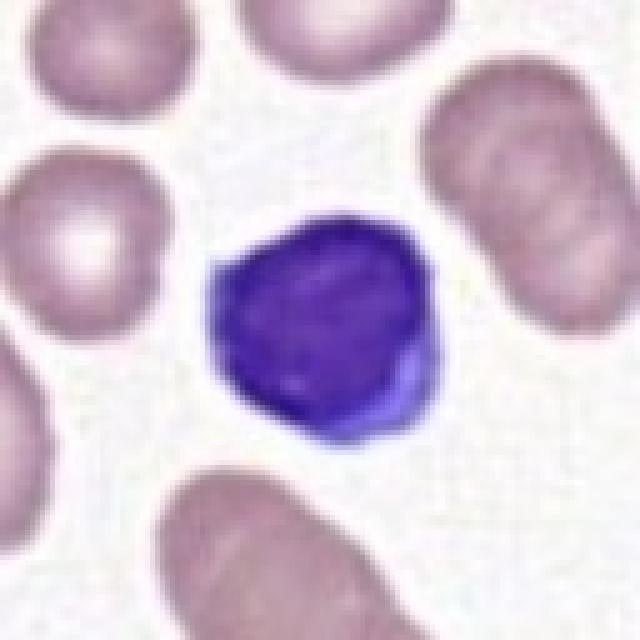lympho: (199, 206, 451, 448)
